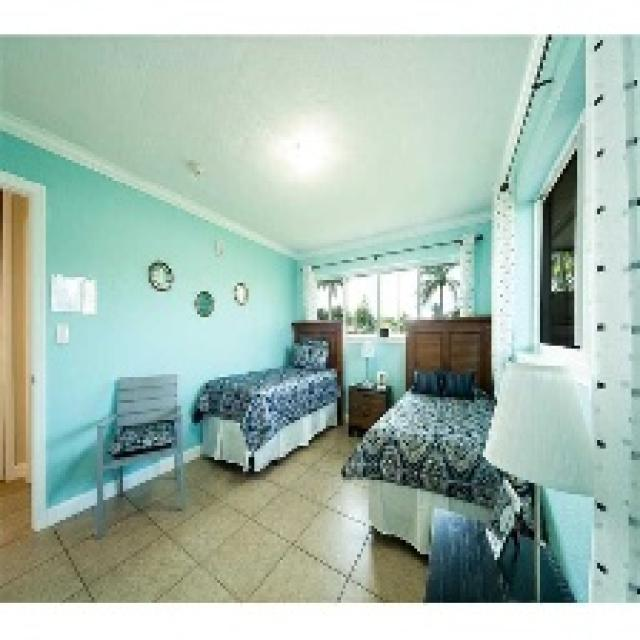Bed: (191, 317, 343, 472)
